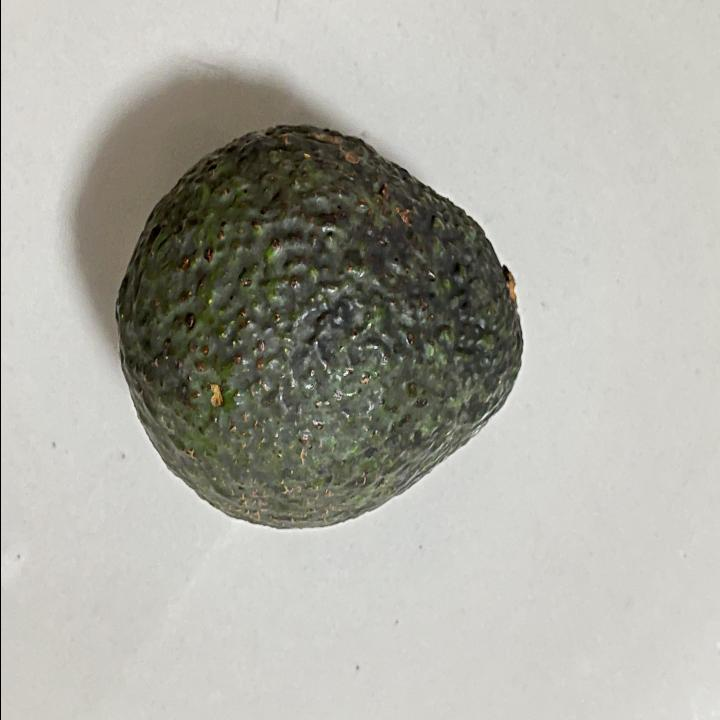Level1: (102, 110, 537, 544)
